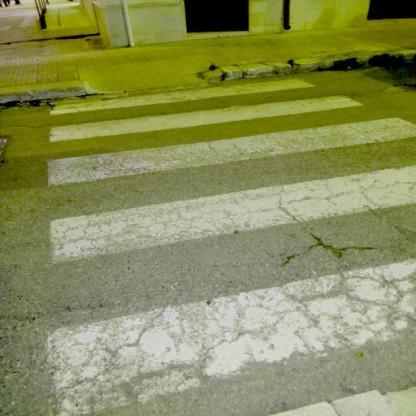crosswalk: (26, 76, 369, 147)
